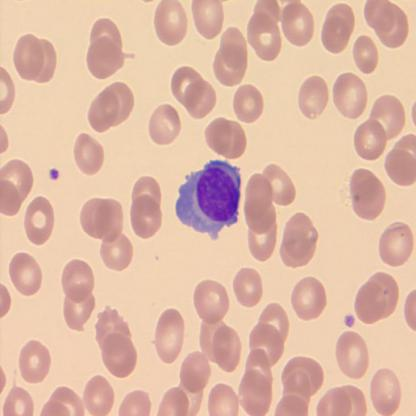Atypical lymphocyte: (177, 162, 242, 240)
